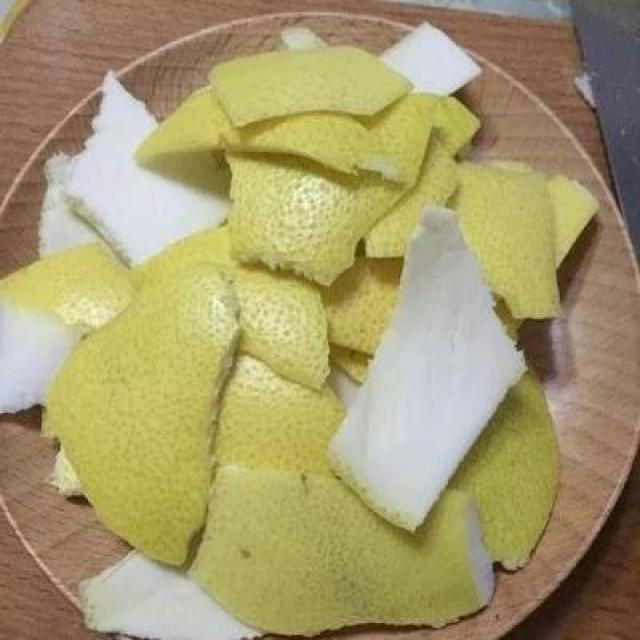Wet Waste: (3, 14, 605, 638)
